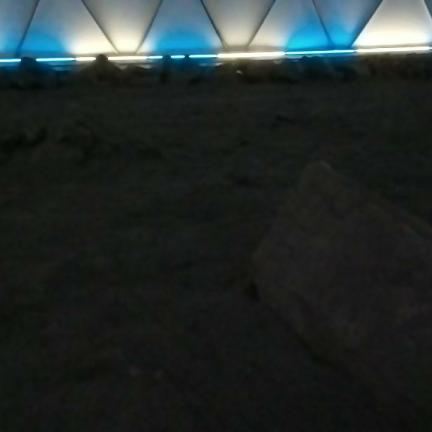Rock: (253, 163, 431, 402), (11, 57, 59, 89), (78, 54, 122, 83), (160, 56, 203, 83), (297, 57, 338, 79), (239, 61, 275, 83), (269, 60, 301, 83), (207, 63, 239, 85), (123, 65, 157, 85), (332, 65, 359, 81)
